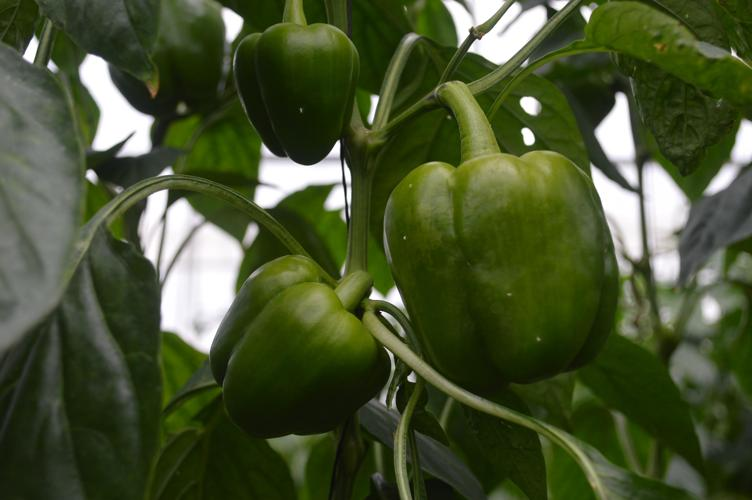BellPepper: (388, 153, 616, 376), (212, 252, 391, 438), (231, 24, 356, 163), (106, 3, 226, 128)
